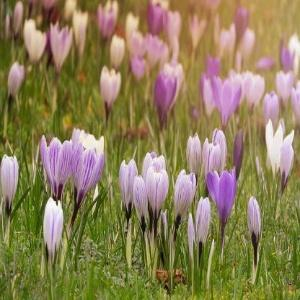Saffron: (40, 135, 81, 198), (71, 143, 105, 209), (206, 170, 238, 226), (213, 77, 243, 127), (43, 197, 64, 265), (50, 23, 73, 80), (174, 169, 196, 228), (153, 72, 178, 123), (146, 167, 169, 222), (0, 155, 19, 216), (119, 158, 138, 219), (194, 197, 211, 252), (101, 67, 121, 113), (6, 60, 26, 105), (247, 197, 263, 250), (280, 143, 294, 189)
